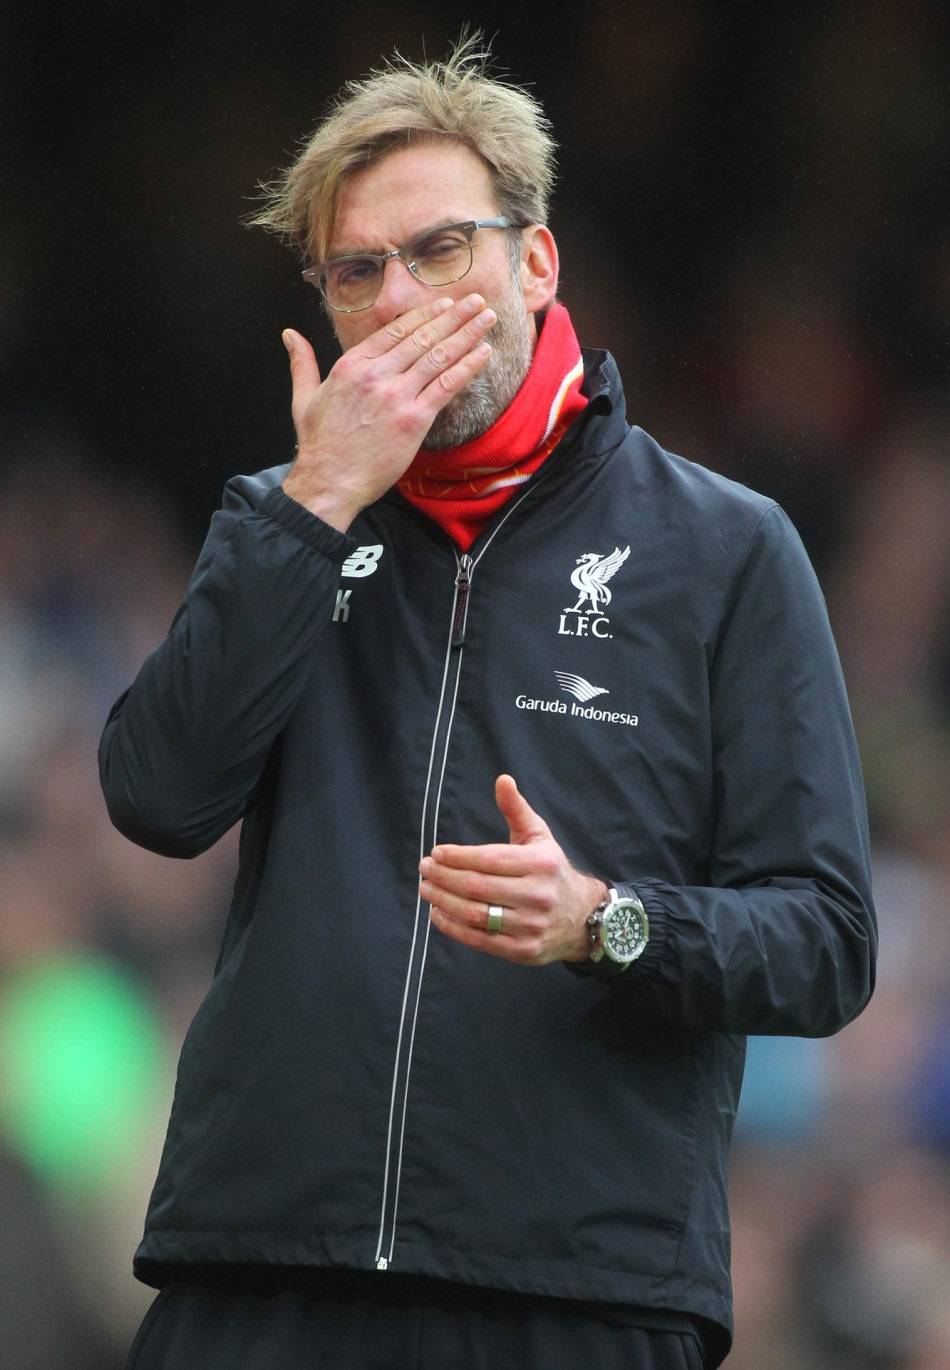face: (325, 133, 512, 434)
